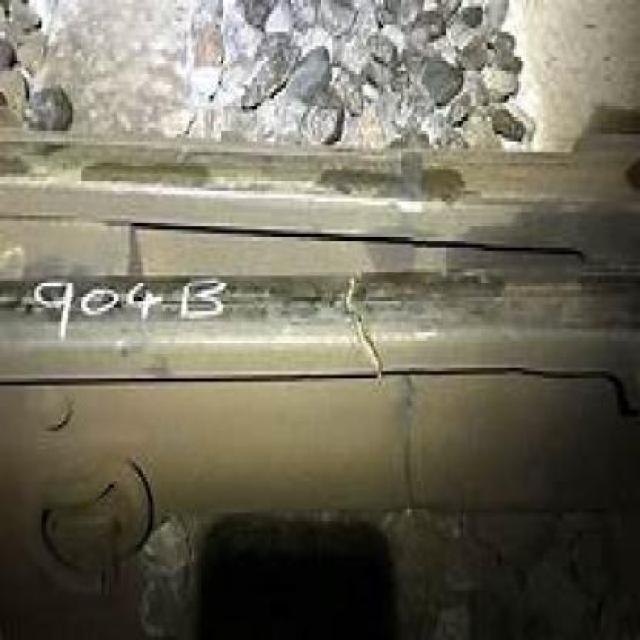defective: (108, 210, 635, 638)
